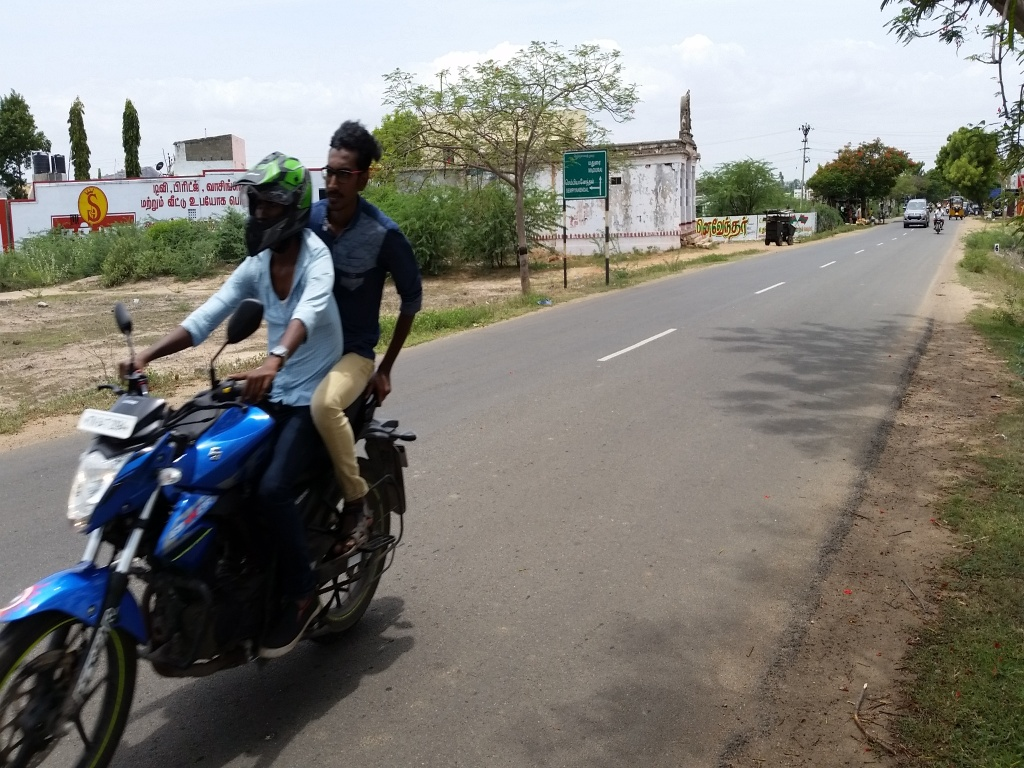biker: (1, 76, 446, 767)
helmet: (230, 137, 315, 263)
nohelmet: (316, 115, 382, 228)
